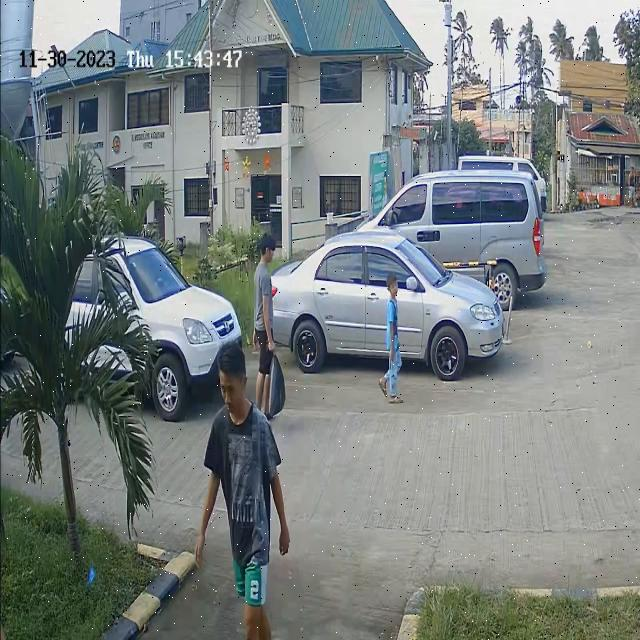human: (195, 342, 291, 640), (378, 274, 407, 402), (253, 229, 282, 352)
trash: (258, 337, 292, 413)
